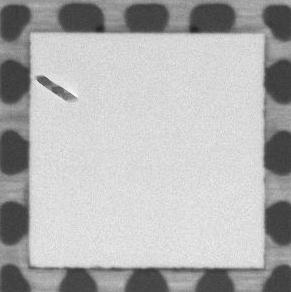DIE_INK: (33, 72, 80, 105)
